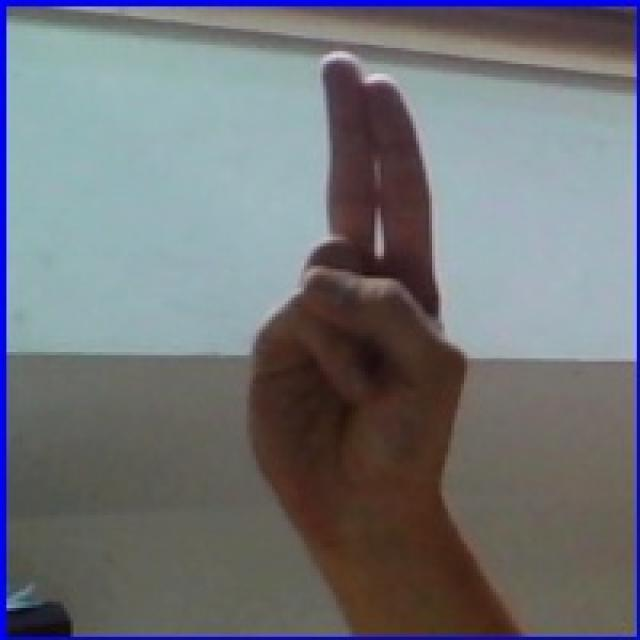Letra-U: (226, 41, 495, 536)
